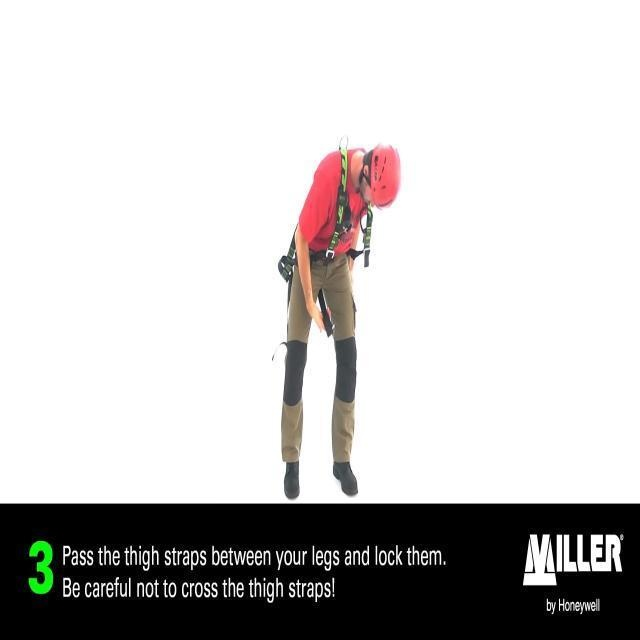Arnes_seguridad: (272, 138, 378, 339)
